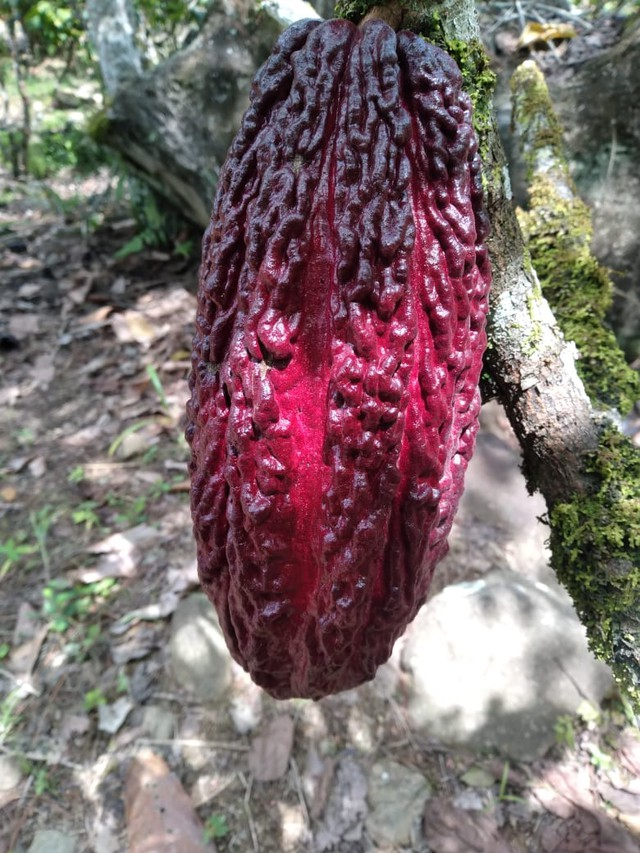Health: (160, 3, 510, 716)
